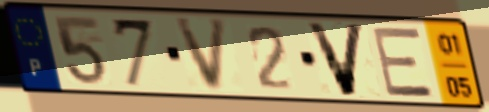2: (246, 24, 295, 92)
5: (49, 14, 112, 87)
7: (108, 16, 159, 89)
E: (369, 26, 439, 100)
V: (302, 20, 369, 100), (172, 17, 231, 94)
